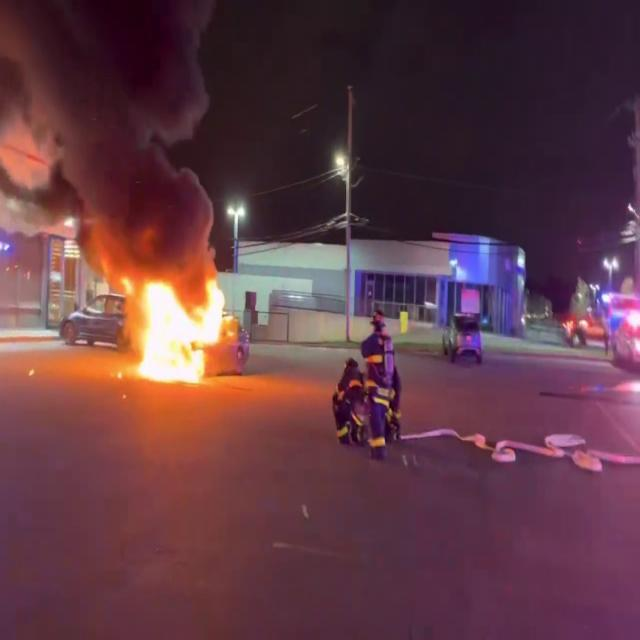Fire: (123, 266, 234, 382)
Smoke: (0, 0, 230, 266)
